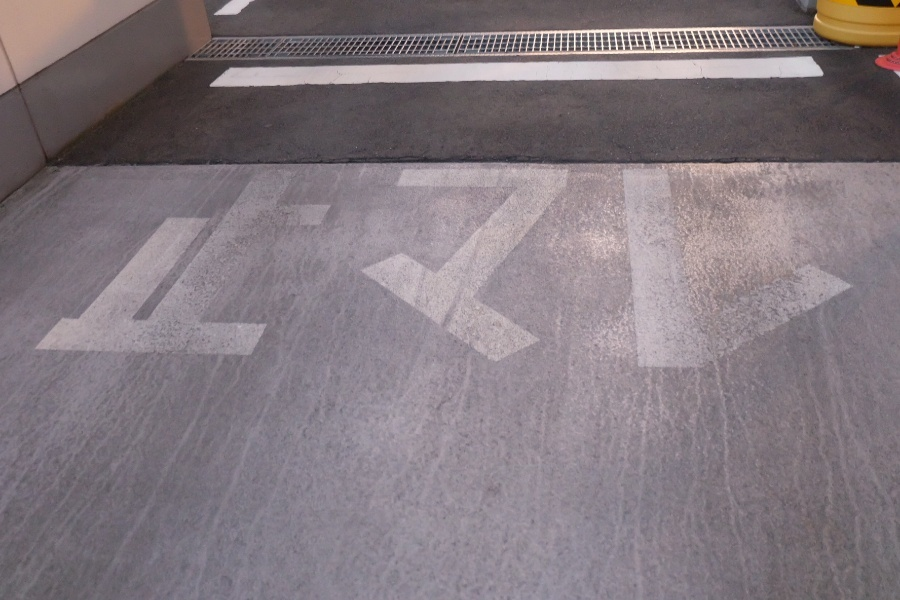text: (865, 166, 881, 379), (193, 166, 208, 379), (209, 166, 224, 379), (225, 166, 240, 379), (241, 166, 256, 379), (257, 166, 272, 379), (273, 166, 288, 379), (289, 166, 304, 379), (305, 166, 320, 379), (321, 166, 336, 379), (337, 166, 352, 379), (353, 166, 368, 379), (369, 166, 384, 379), (385, 166, 400, 379), (401, 166, 416, 379), (417, 166, 432, 379), (433, 166, 448, 379), (449, 166, 464, 379), (465, 166, 480, 379), (481, 166, 496, 379), (497, 166, 512, 379), (513, 166, 528, 379), (529, 166, 544, 379), (545, 166, 560, 379), (561, 166, 576, 379), (577, 166, 592, 379), (593, 166, 608, 379), (609, 166, 624, 379), (625, 166, 640, 379), (641, 166, 656, 379), (657, 166, 672, 379), (673, 166, 688, 379), (689, 166, 704, 379), (705, 166, 720, 379), (721, 166, 736, 379), (737, 166, 752, 379), (753, 166, 768, 379), (769, 166, 784, 379), (785, 166, 800, 379), (801, 166, 816, 379), (817, 166, 832, 379), (833, 166, 848, 379), (849, 166, 864, 379)
